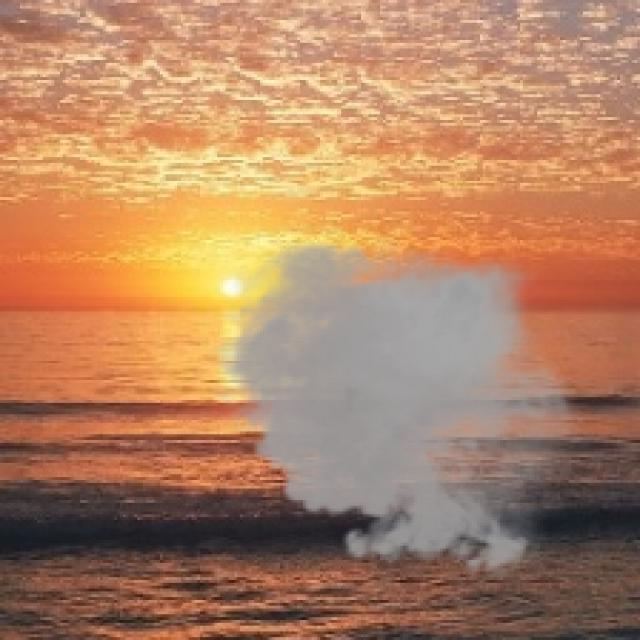smoke: (203, 228, 591, 583)
